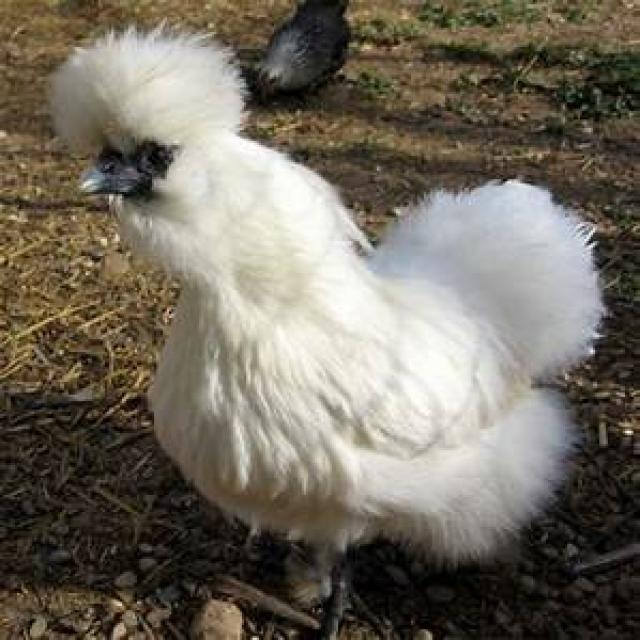hen: (51, 29, 602, 558)
